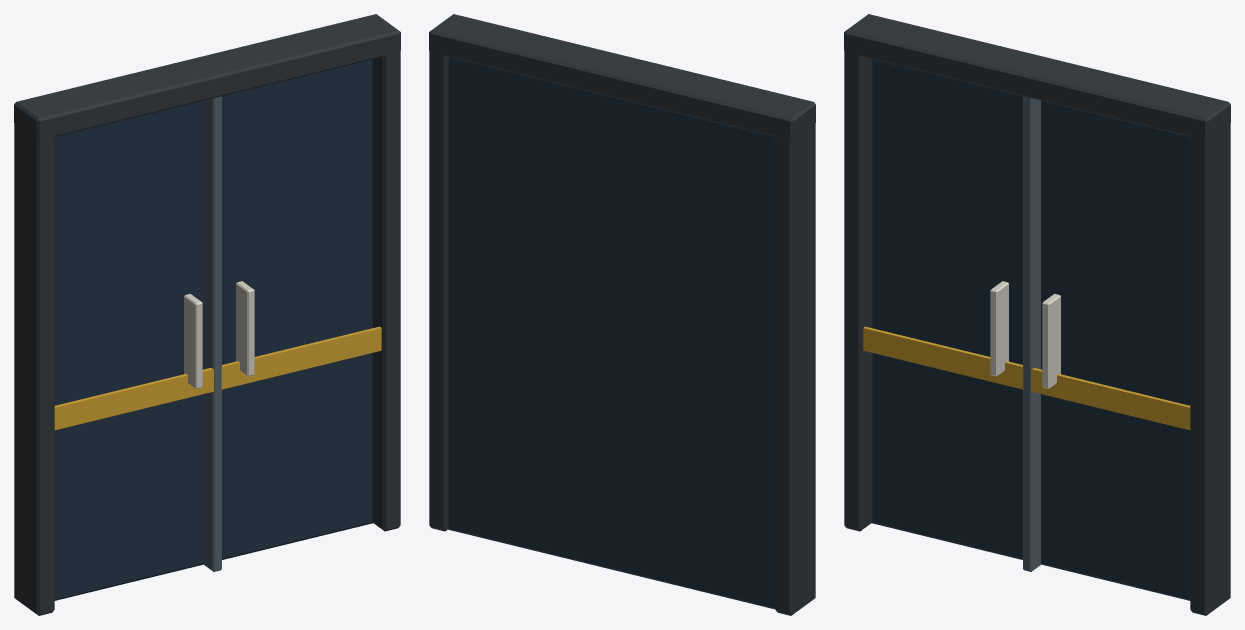
Rendered from BH_Door_Shop.glb.
The picture shows the model from 3 angles, left to right: view 1: azimuth 30°, elevation 25°; view 2: azimuth 150°, elevation 25°; view 3: azimuth 330°, elevation 25°; orthographic projection.
Parts seen in each view (by area): view 1: BH_Door_Shop_RenderMesh; view 2: BH_Door_Shop_RenderMesh; view 3: BH_Door_Shop_RenderMesh.
Part boxes in pixels (left/top/right/bottom): BH_Door_Shop_RenderMesh: left=14, top=14, right=400, bottom=615; BH_Door_Shop_RenderMesh: left=429, top=14, right=815, bottom=615; BH_Door_Shop_RenderMesh: left=844, top=14, right=1230, bottom=615.
Size of what is drawn, in the model's own units: 1.69 by 2.2 by 0.245.
